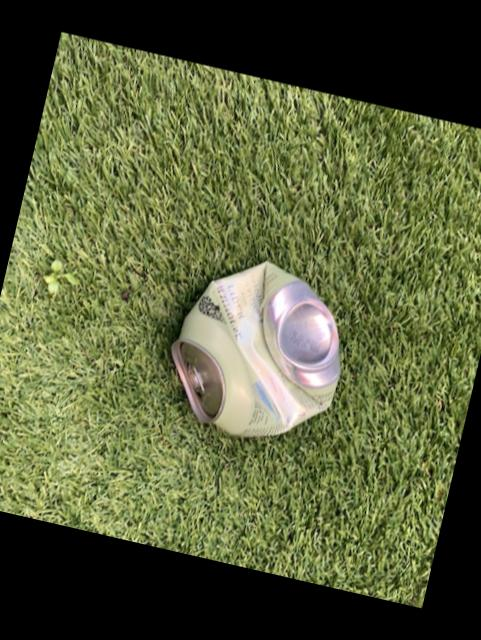metal: (170, 264, 338, 438)
